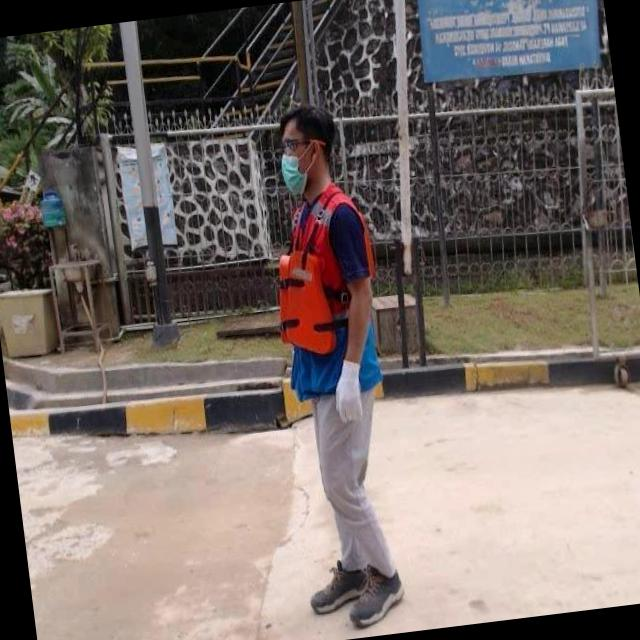vest: (264, 175, 386, 398)
